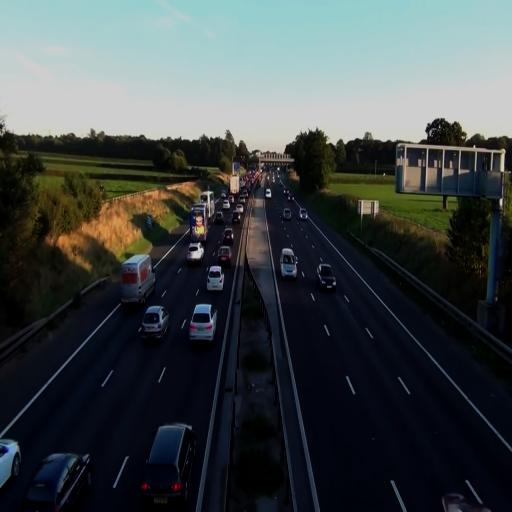vehicle: (140, 422, 197, 512), (22, 452, 92, 511), (120, 252, 156, 310), (121, 253, 155, 311), (189, 303, 217, 346), (0, 437, 22, 491), (139, 304, 170, 342), (188, 204, 208, 244), (317, 261, 337, 292), (280, 246, 298, 279), (206, 265, 224, 293), (187, 242, 204, 266), (217, 244, 232, 268), (232, 208, 244, 222), (282, 206, 293, 220), (300, 210, 308, 220)
